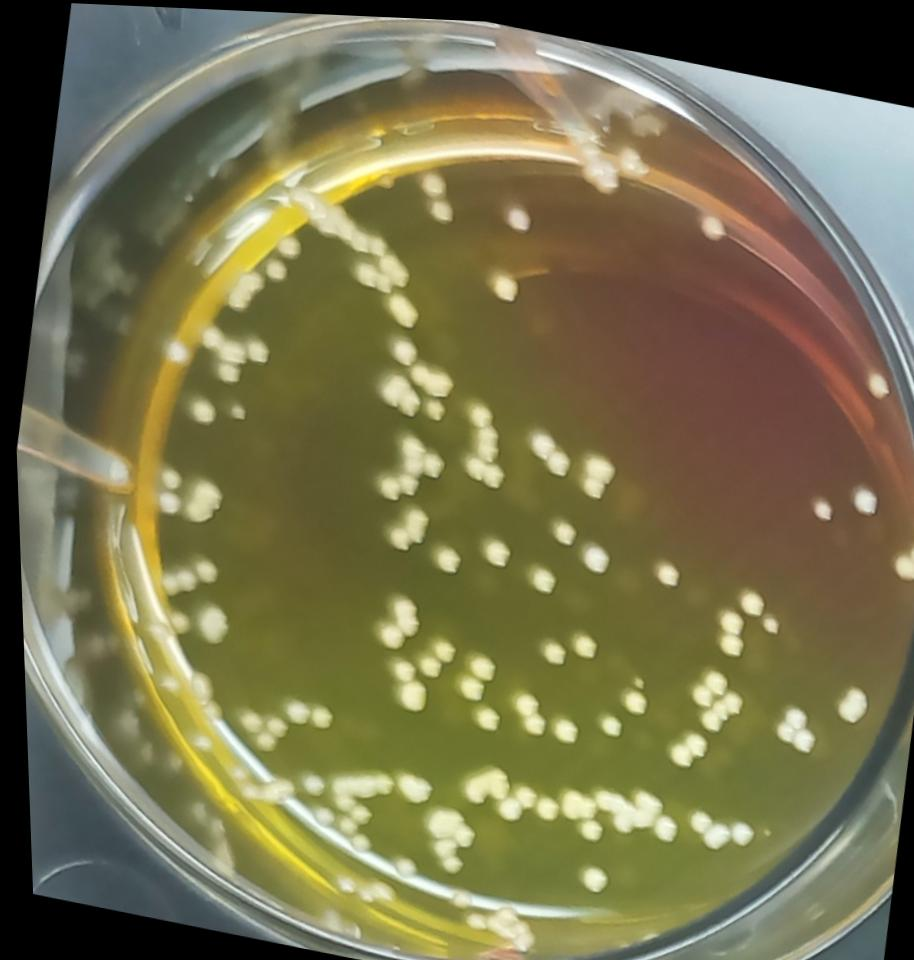staphylo-: (370, 423, 446, 503), (364, 583, 422, 652), (377, 492, 432, 552), (453, 756, 507, 808), (499, 680, 549, 735), (574, 443, 617, 496), (402, 356, 455, 399), (373, 367, 419, 413), (388, 667, 429, 711), (473, 528, 513, 569), (528, 627, 566, 668), (521, 552, 558, 594), (611, 675, 651, 713), (481, 263, 520, 301), (541, 509, 576, 549), (465, 418, 499, 459), (458, 642, 496, 678), (647, 547, 683, 585), (458, 452, 500, 483), (428, 535, 462, 573), (541, 705, 576, 741), (562, 619, 597, 655), (384, 288, 419, 324), (459, 389, 493, 426), (466, 693, 501, 728), (297, 695, 331, 731), (448, 667, 482, 702), (591, 702, 623, 736), (408, 645, 440, 678), (381, 649, 412, 682), (426, 629, 455, 659), (416, 391, 443, 419)
